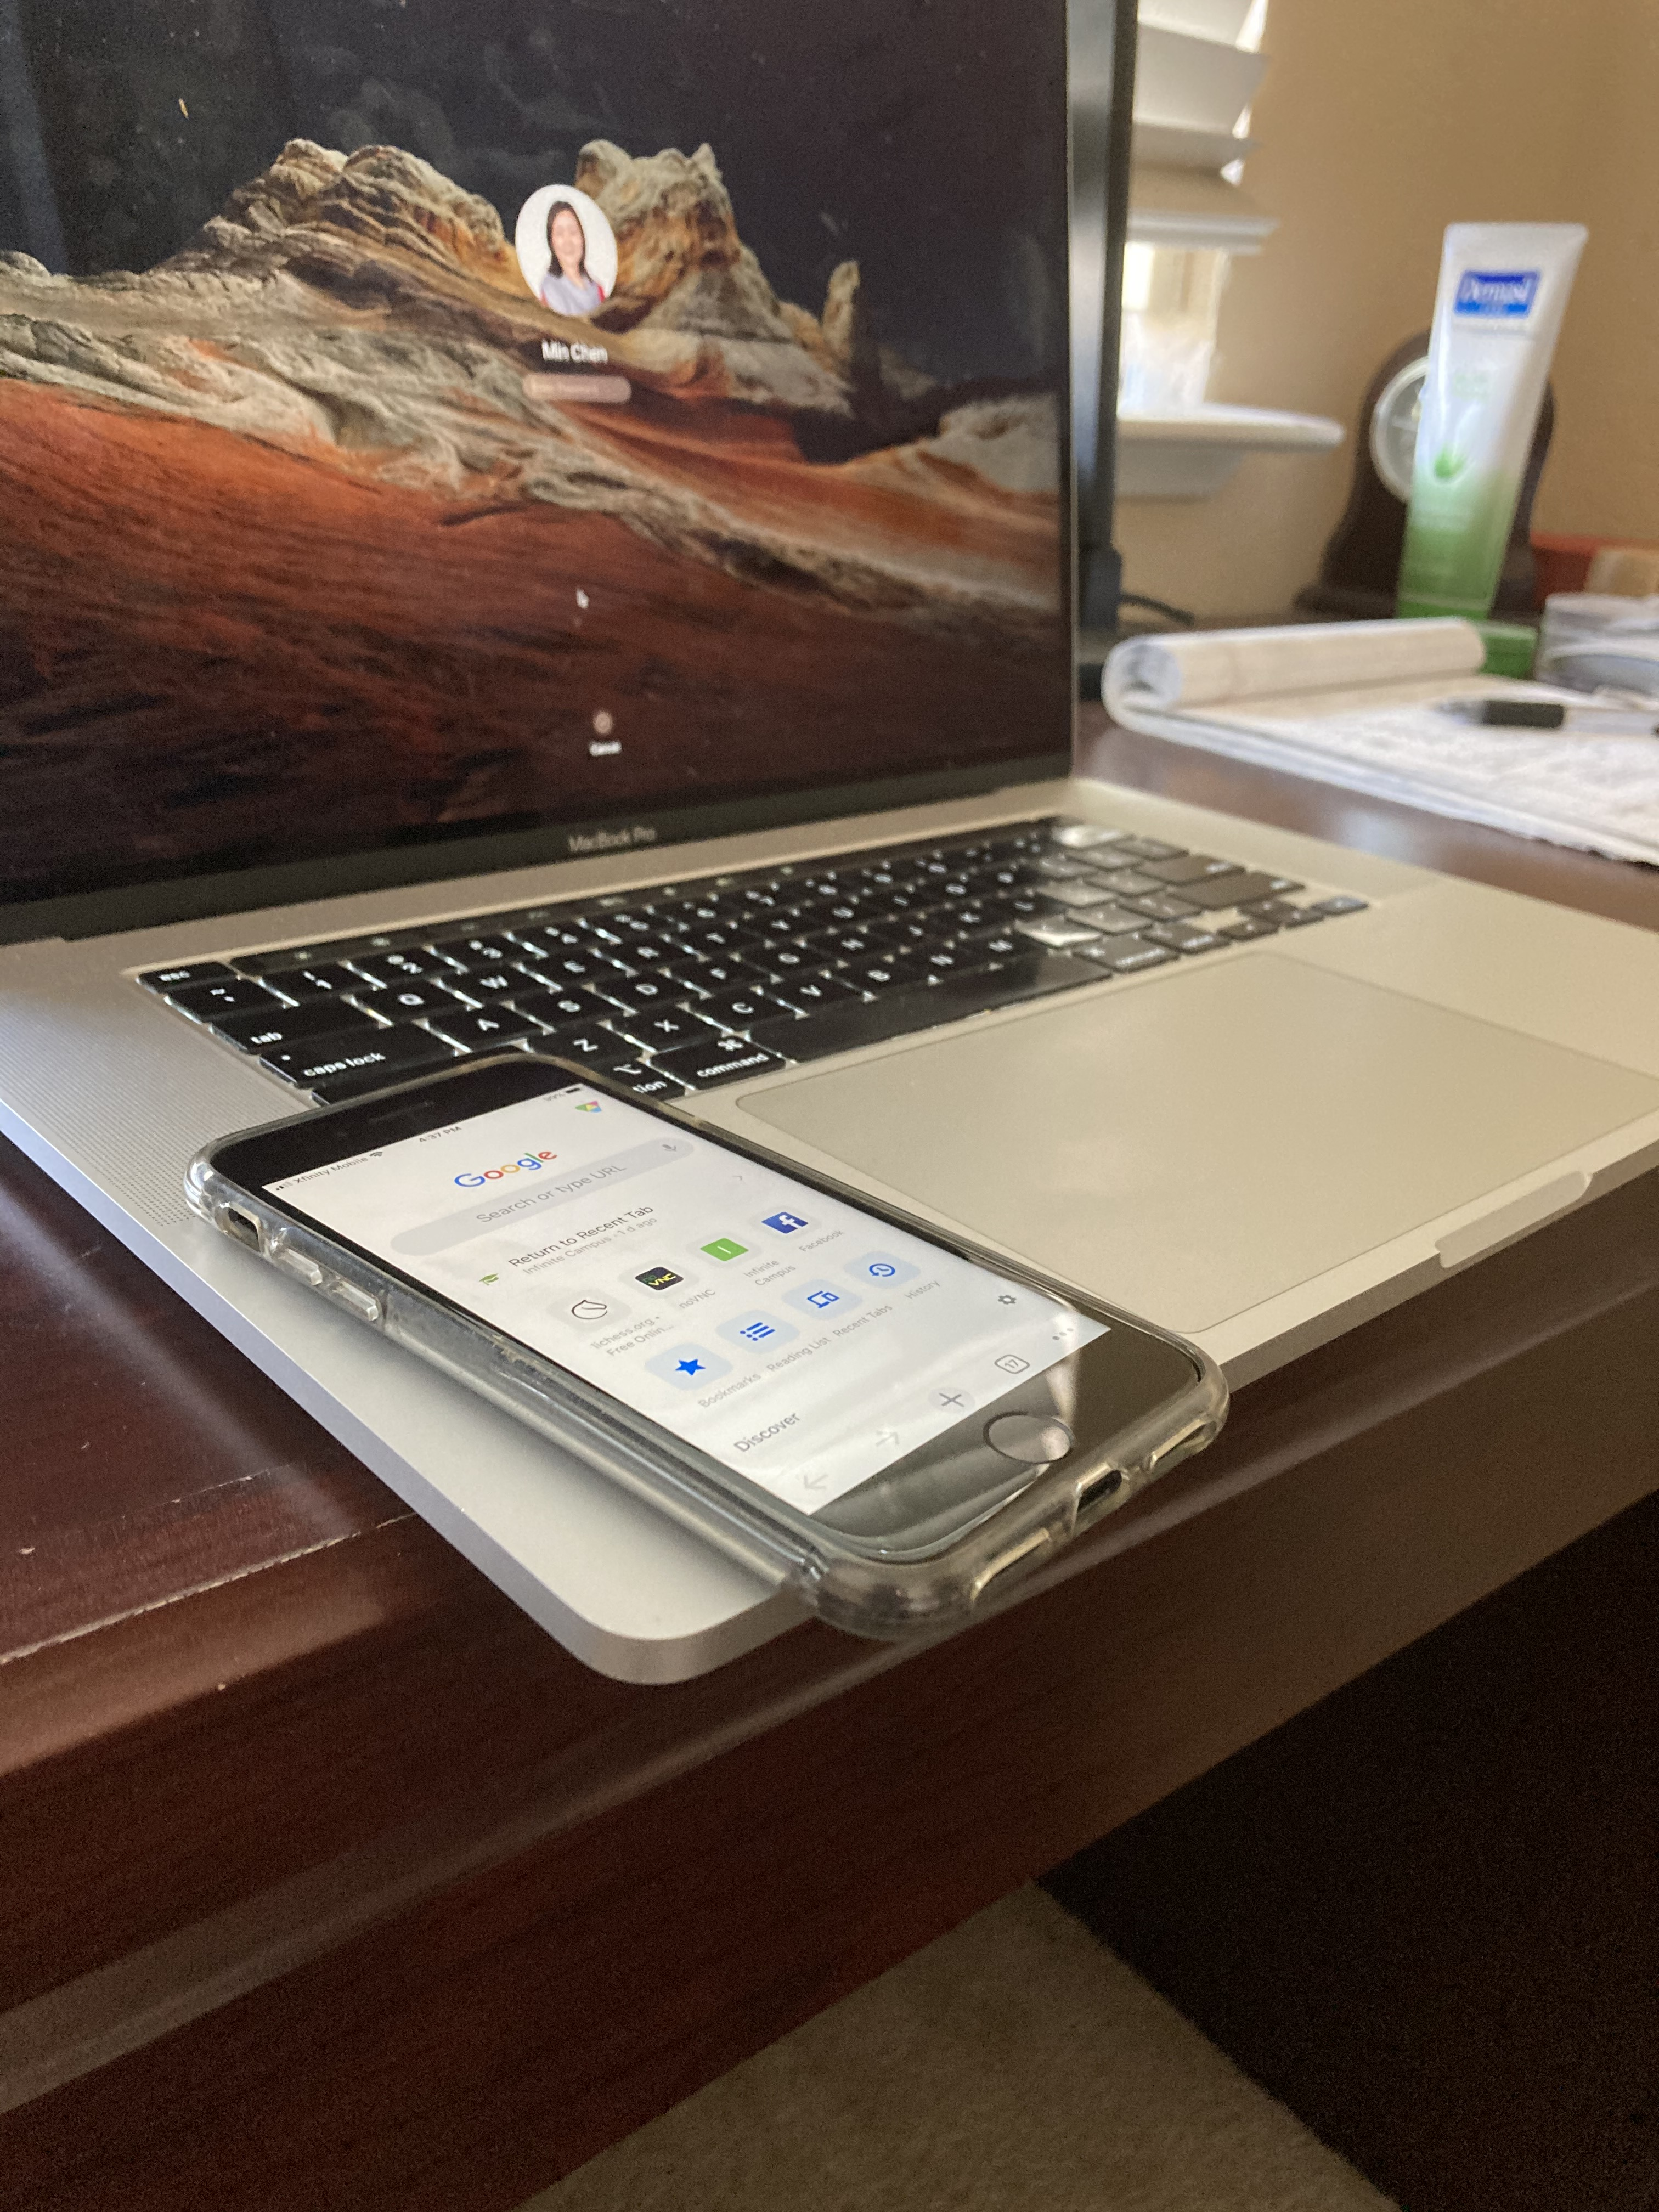Cell Phone: (192, 1064, 1246, 1629)
